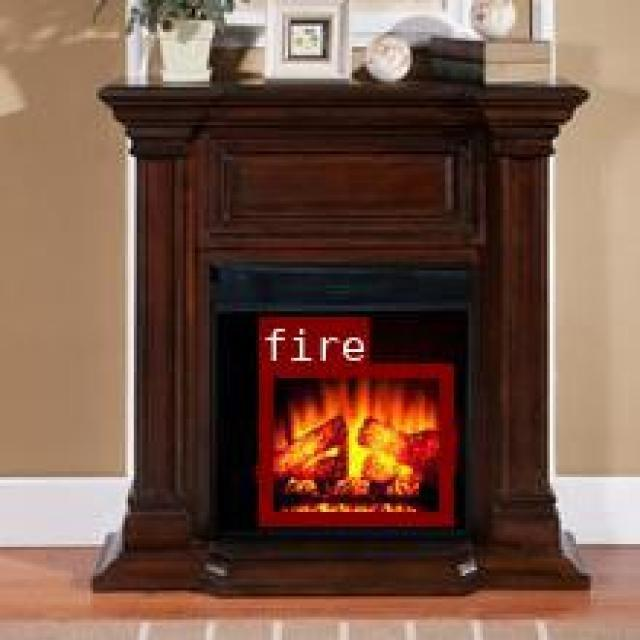fire: (257, 361, 448, 523)
